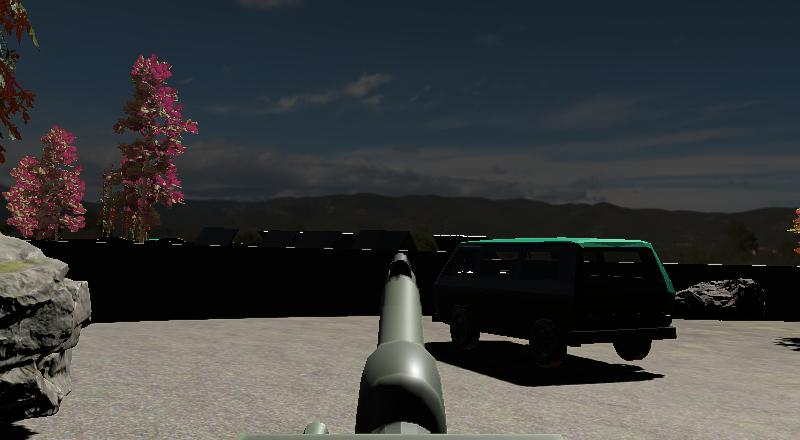car: (430, 235, 680, 367)
